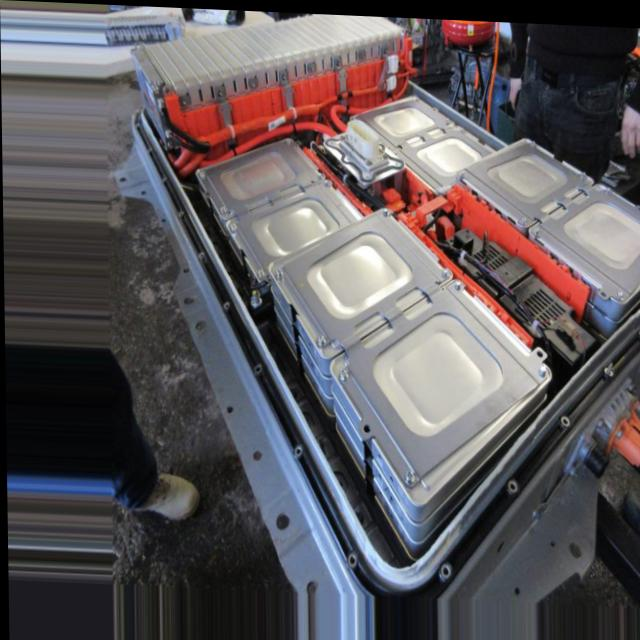Battery Module: (282, 213, 534, 472), (467, 140, 639, 283), (210, 145, 351, 264), (150, 12, 384, 80), (363, 98, 478, 177)
Bolt: (195, 160, 213, 182), (399, 462, 416, 485), (247, 287, 264, 309), (318, 170, 333, 189), (269, 265, 287, 280), (314, 329, 329, 345), (228, 219, 242, 235), (534, 360, 550, 373), (335, 365, 349, 378), (453, 275, 463, 291), (438, 264, 450, 277), (573, 165, 588, 175), (441, 113, 454, 124), (218, 199, 227, 214), (514, 212, 527, 222), (455, 165, 466, 176), (614, 283, 625, 293), (380, 203, 390, 213), (410, 91, 420, 100), (283, 133, 291, 144), (381, 135, 390, 144), (527, 134, 535, 144), (391, 144, 399, 154)
Bus-bar: (405, 184, 459, 224)
Cable: (200, 78, 392, 163)
Nut: (602, 357, 619, 370), (331, 58, 344, 69), (213, 87, 225, 98), (306, 60, 315, 72), (179, 98, 188, 109), (249, 77, 256, 90), (279, 70, 288, 80), (381, 47, 391, 55), (359, 52, 364, 59)
